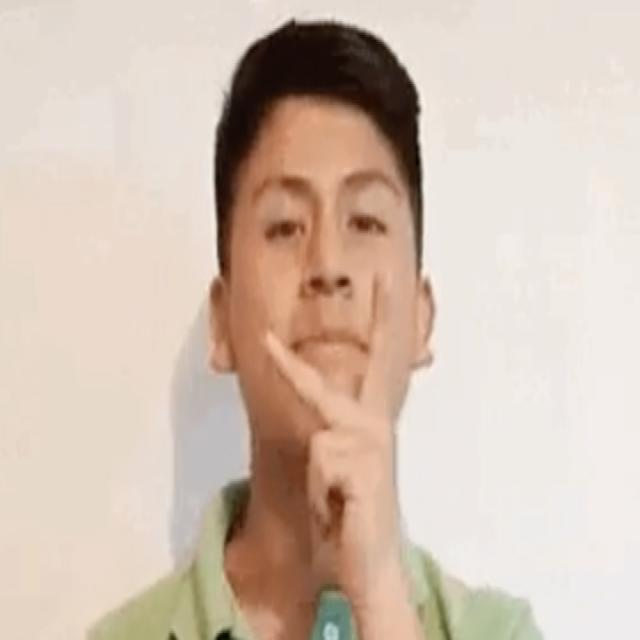PAPA: (260, 266, 420, 602)
